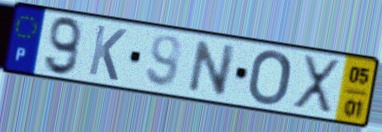9: (43, 14, 84, 78), (145, 34, 184, 90)
K: (85, 22, 129, 84)
N: (184, 38, 239, 99)
O: (246, 49, 294, 108)
X: (290, 53, 343, 118)
